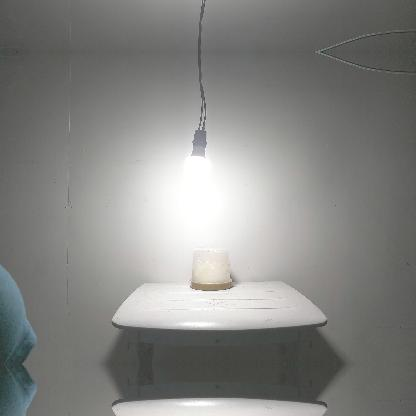Lady-s-Choice: (190, 245, 232, 291)
